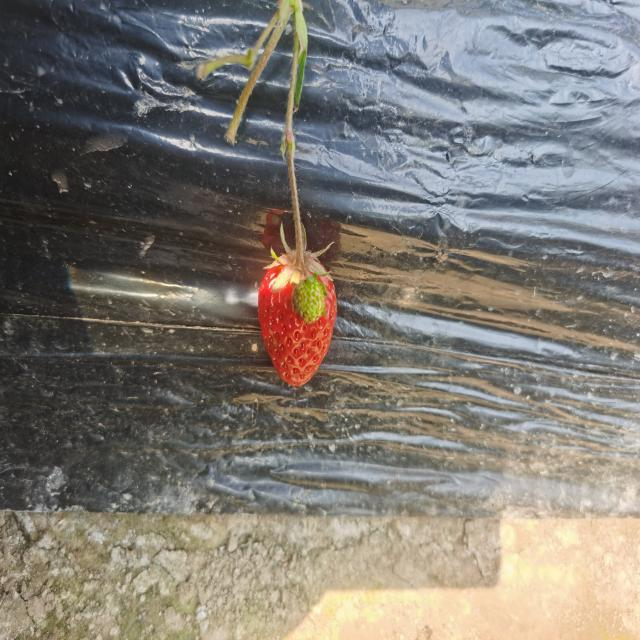stem: (292, 193, 306, 268)
strawberry: (258, 248, 337, 387)
